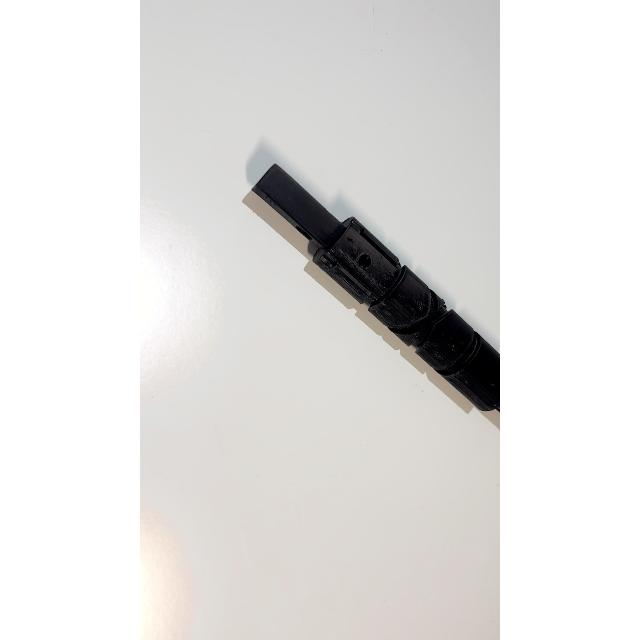Pieza_1: (240, 144, 500, 430)
